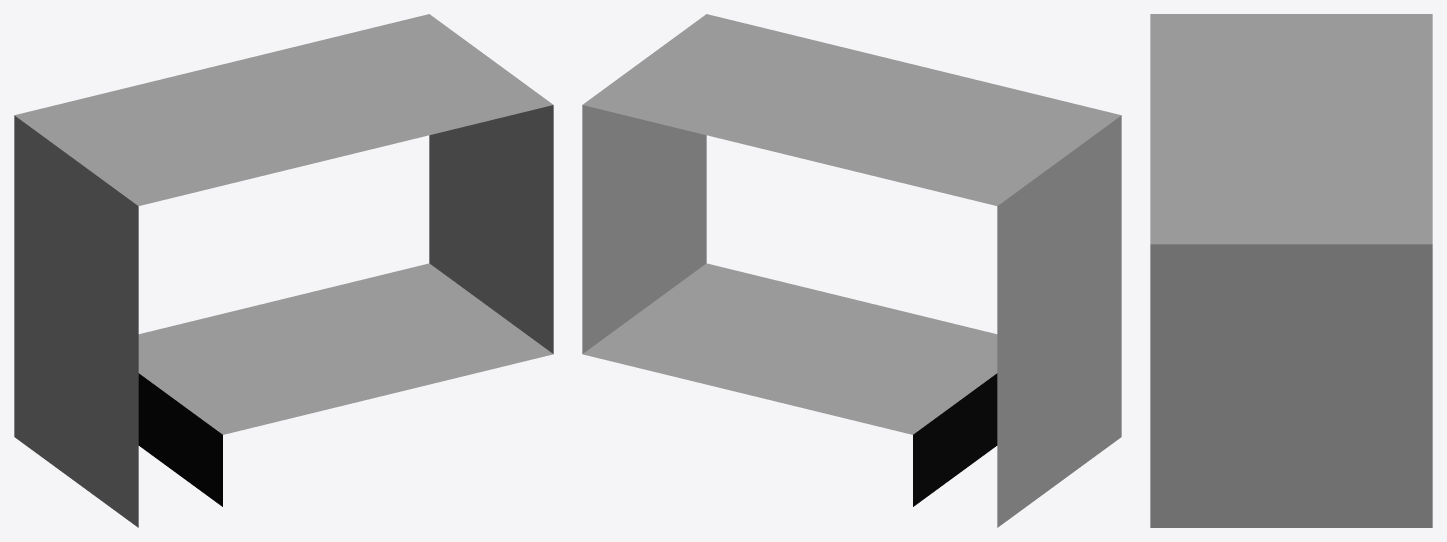
The model's file is prxyCage_export.0001.fbx.
The picture shows the model from 3 angles, left to right: view 1: azimuth 30°, elevation 25°; view 2: azimuth 150°, elevation 25°; view 3: azimuth 270°, elevation 25°; orthographic projection. The views are drawn at different scales.
Visible parts, largest first — view 1: prxyCage_4_geo, prxyCage_5_geo, prxyCage_2_geo, prxyCage_3_geo, prxyCage_1_geo; view 2: prxyCage_4_geo, prxyCage_5_geo, prxyCage_2_geo, prxyCage_3_geo, prxyCage_1_geo; view 3: prxyCage_3_geo, prxyCage_4_geo.
Boxes of the visible parts, x1,y1,x2,y2 form: prxyCage_4_geo: [14, 14, 552, 206]; prxyCage_5_geo: [14, 115, 138, 527]; prxyCage_2_geo: [138, 263, 552, 434]; prxyCage_3_geo: [429, 105, 553, 353]; prxyCage_1_geo: [138, 373, 222, 506]; prxyCage_4_geo: [583, 14, 1121, 206]; prxyCage_5_geo: [997, 115, 1121, 527]; prxyCage_2_geo: [583, 263, 997, 434]; prxyCage_3_geo: [582, 105, 706, 353]; prxyCage_1_geo: [913, 373, 997, 506]; prxyCage_3_geo: [1150, 244, 1432, 527]; prxyCage_4_geo: [1150, 14, 1432, 244].
Bounding box in the file's own units: 540 × 400 × 280.
